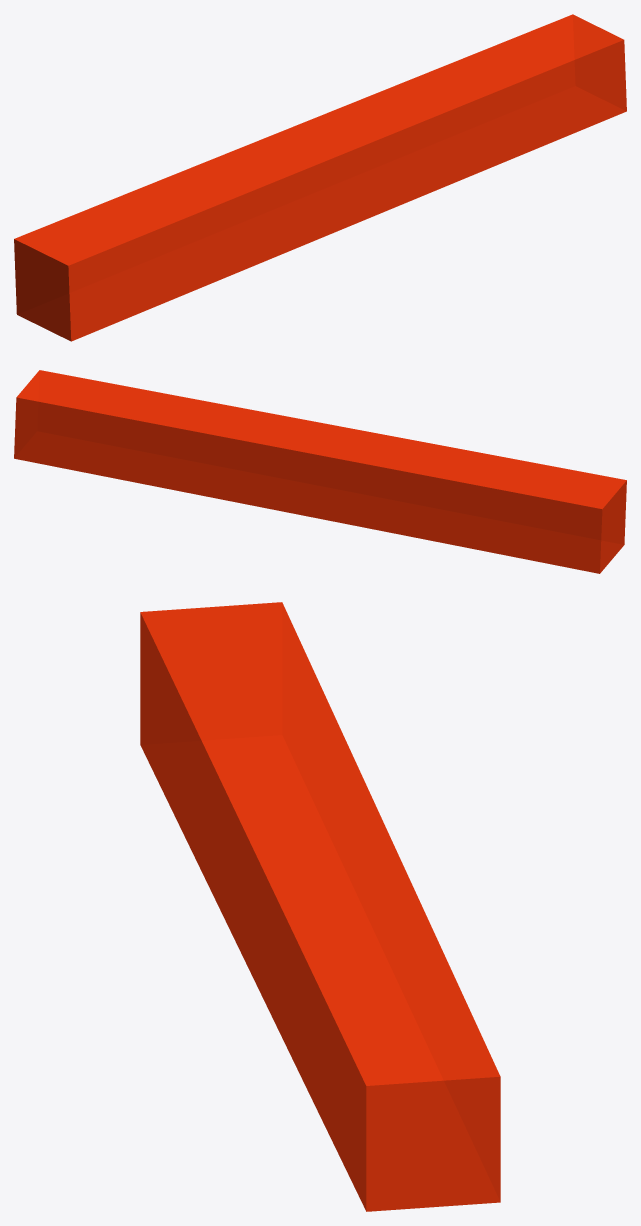
The model's file is Event_421127236_EErechit_22.fbx.
The picture shows the model from 3 angles, top to bottom: view 1: azimuth 30°, elevation 25°; view 2: azimuth 150°, elevation 25°; view 3: azimuth 270°, elevation 25°; orthographic projection. The views are drawn at different scales.
Visible parts, largest first — view 1: Model; view 2: Model; view 3: Model.
Boxes of the visible parts, x1=… form: Model: x1=14, y1=14, x2=626, y2=341; Model: x1=14, y1=370, x2=626, y2=573; Model: x1=140, y1=602, x2=500, y2=1211.
Bounding box in the file's own units: 0.6684 × 0.103 × 0.1918.
